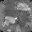people: (4, 15, 17, 26)
